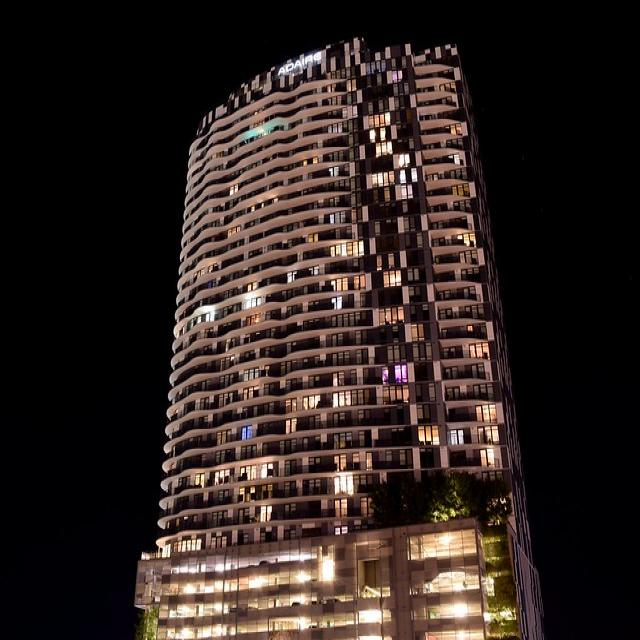Normal_building: (133, 24, 545, 640)
